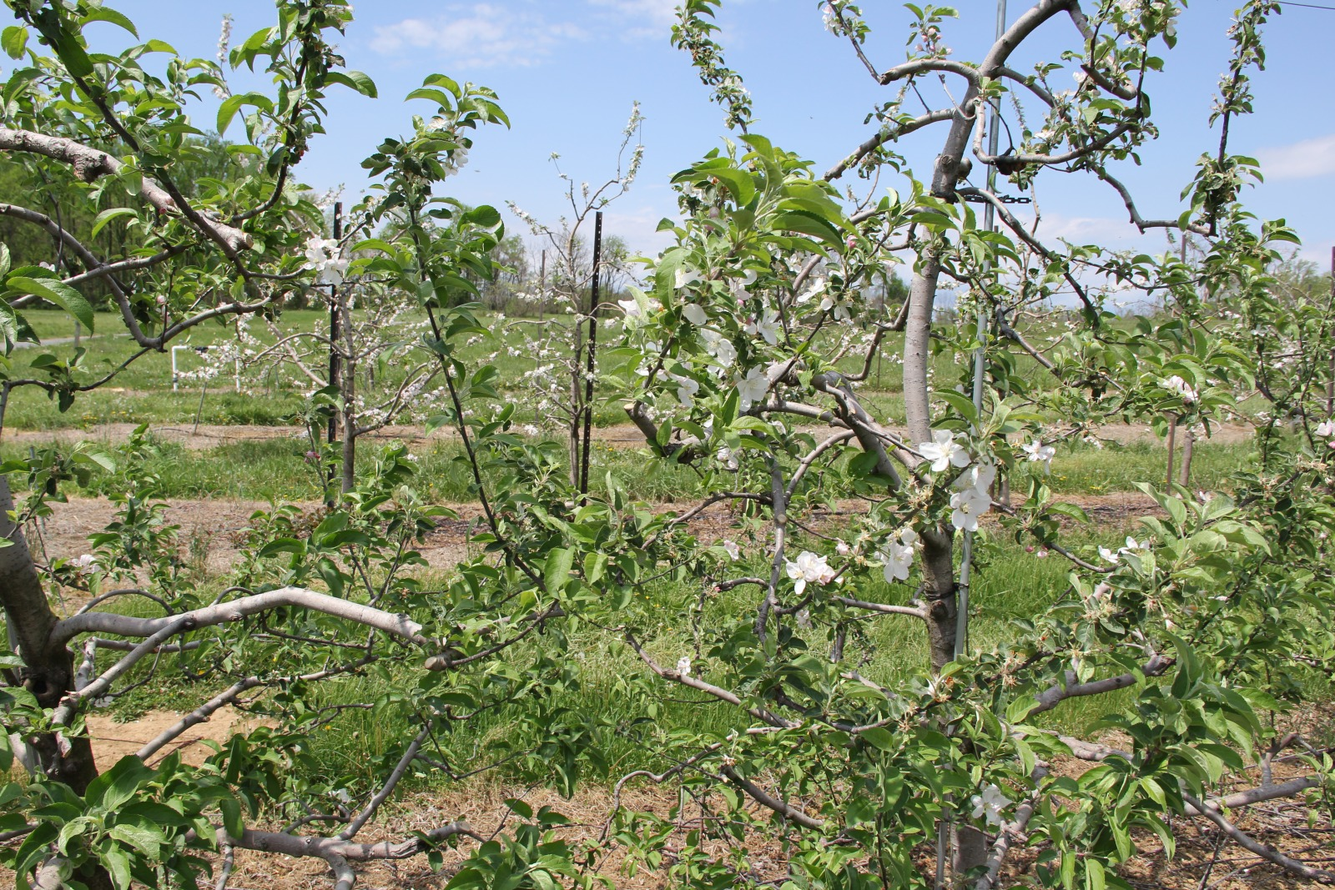flower: (949, 455, 997, 534), (297, 235, 352, 289), (874, 527, 918, 585), (786, 551, 838, 596), (919, 430, 972, 472), (971, 781, 1015, 827), (729, 365, 771, 412), (743, 306, 783, 347), (1098, 536, 1151, 564), (702, 329, 738, 369), (440, 128, 469, 177), (1022, 440, 1057, 477), (816, 288, 854, 322), (723, 269, 758, 304), (669, 373, 699, 409), (1163, 375, 1196, 401), (855, 273, 878, 310), (798, 278, 826, 303), (822, 0, 842, 34), (675, 269, 708, 289), (684, 304, 713, 326), (724, 77, 748, 103), (680, 182, 708, 203), (618, 296, 642, 318), (426, 116, 456, 133), (1114, 0, 1141, 18), (795, 608, 814, 630), (1313, 419, 1335, 437), (723, 540, 741, 562), (333, 789, 356, 806), (784, 254, 803, 274), (1034, 125, 1056, 141), (706, 365, 728, 379), (677, 656, 692, 676), (647, 298, 664, 314), (1166, 18, 1178, 37), (657, 370, 670, 385), (635, 366, 649, 376), (646, 342, 657, 352), (728, 390, 733, 397), (993, 503, 998, 505)
